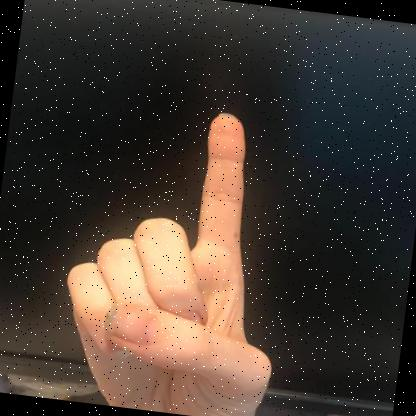D: (66, 112, 271, 416)
